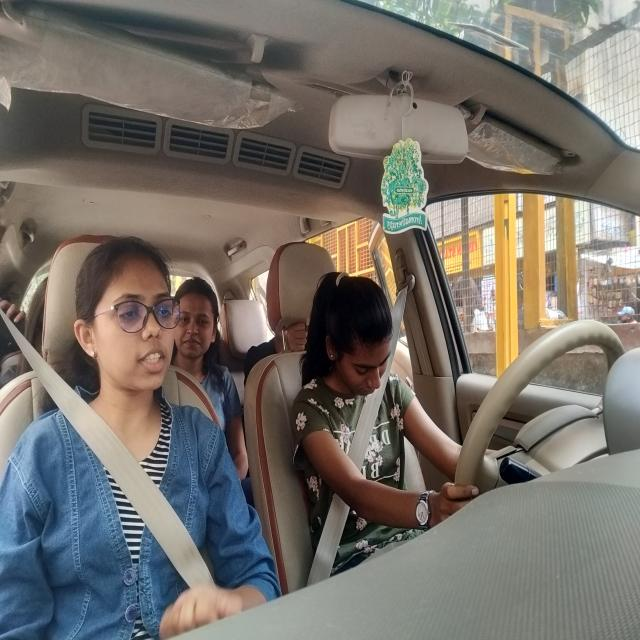drowsy: (323, 266, 395, 401)
person: (73, 237, 180, 402), (172, 272, 224, 360)
